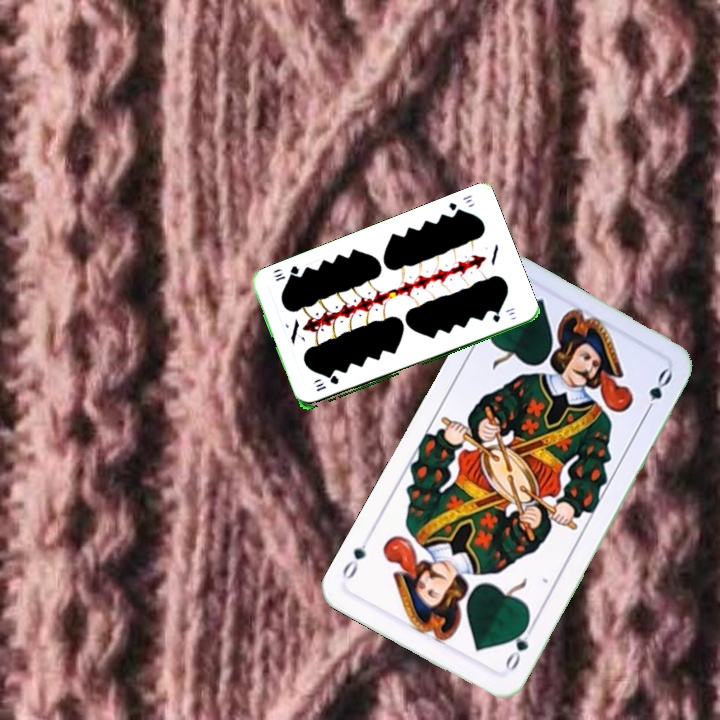G10: (445, 191, 475, 217), (312, 373, 341, 394)
GO: (498, 620, 537, 674)
